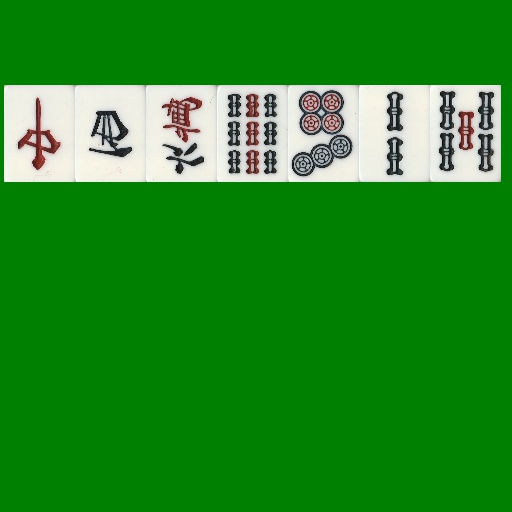2s: (359, 85, 430, 182)
5s: (430, 85, 501, 182)
6m: (146, 85, 217, 182)
7p: (288, 85, 359, 182)
9s: (217, 85, 288, 182)
tyun: (4, 85, 75, 182)
west: (75, 85, 146, 182)
